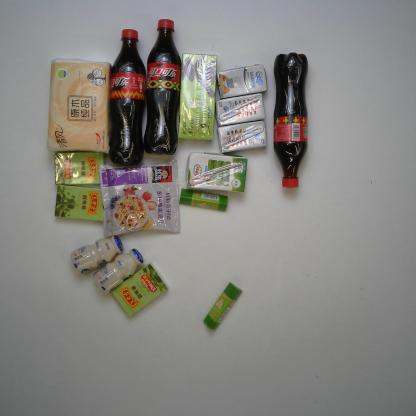Candy: (113, 264, 166, 316), (54, 181, 104, 227), (54, 150, 106, 186)
Drink: (109, 28, 150, 164), (273, 52, 311, 188), (146, 19, 183, 154)
Instant Drink: (97, 161, 179, 234), (181, 51, 218, 143)
Milk: (184, 151, 249, 195), (90, 249, 142, 294), (70, 234, 122, 274), (216, 119, 269, 154), (218, 60, 266, 98), (212, 93, 268, 125)
Stationery: (204, 283, 242, 329), (176, 186, 230, 216)
Tissue: (47, 58, 110, 154)
